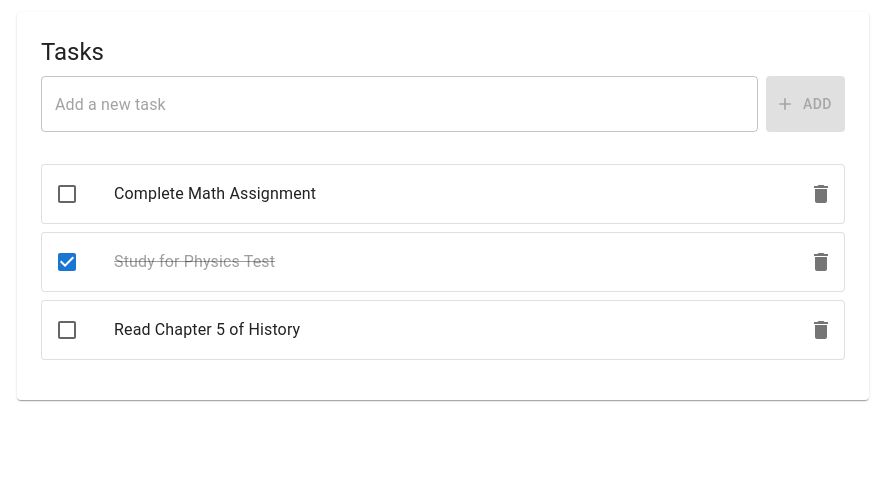
Test: TaskList Component › adds a new task
Check: the button "Add" is disabled, box [766, 76, 845, 132]
// Type a new task
In the field with placeholder "Add a new task": (399,104) [41, 76, 758, 132], type "New Test Task"
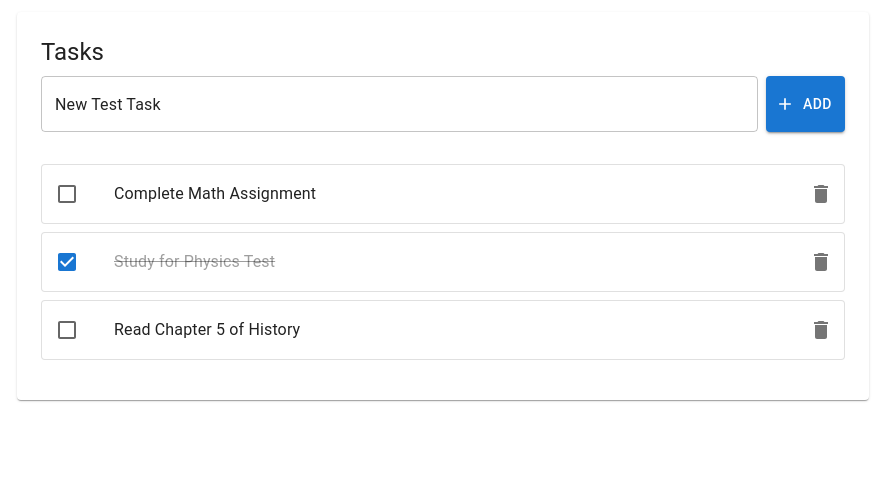
Check: the button "Add" is enabled
// Click add button
Click the button "Add": (805,104) [766, 76, 845, 132]
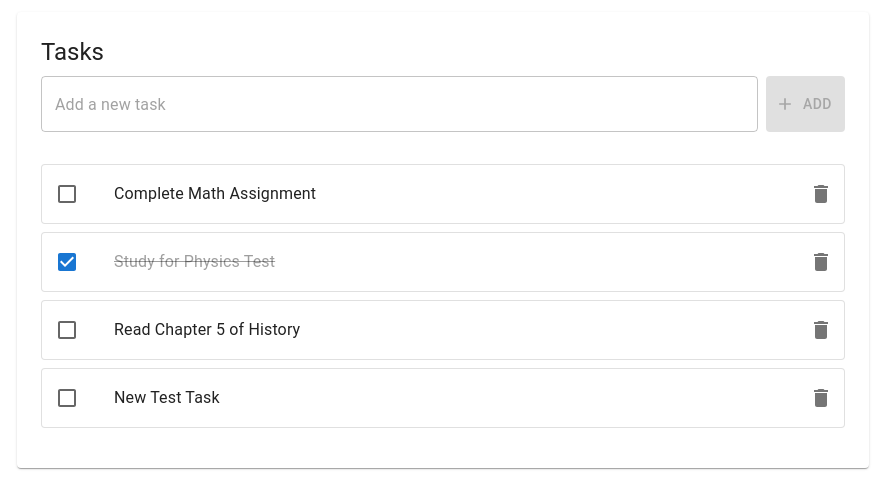
Check: the text "New Test Task" is shown, box [114, 388, 220, 407]
Check: the field with placeholder "Add a new task" is empty, box [41, 76, 758, 132]
